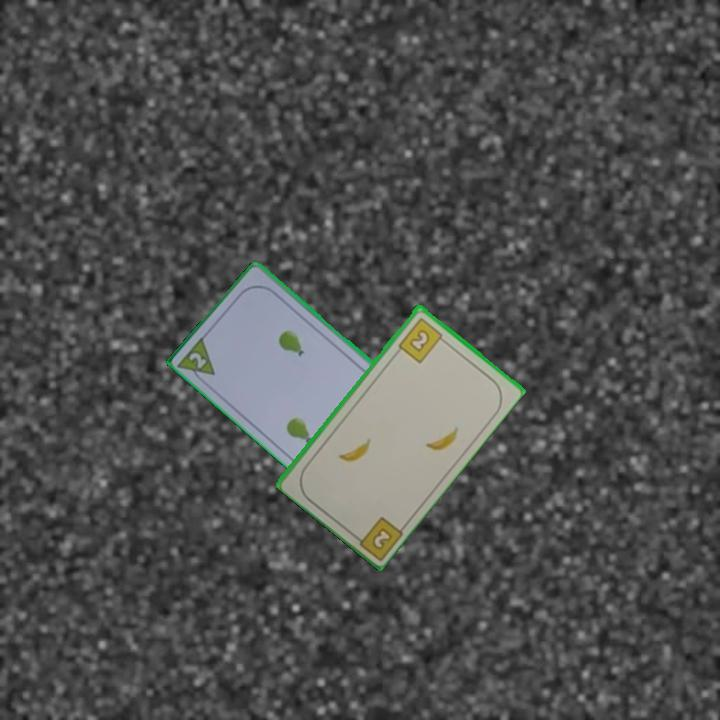2b: (394, 314, 449, 366), (348, 513, 406, 561)
2p: (186, 348, 210, 372)
